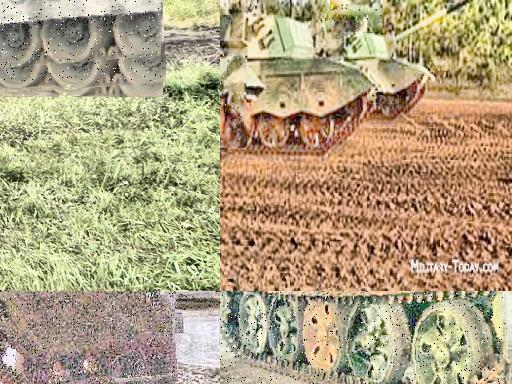tanks: (221, 292, 506, 384), (221, 9, 376, 153), (1, 292, 175, 384), (1, 1, 163, 73), (328, 32, 434, 120), (395, 1, 472, 49), (221, 57, 245, 144), (330, 6, 385, 24)
